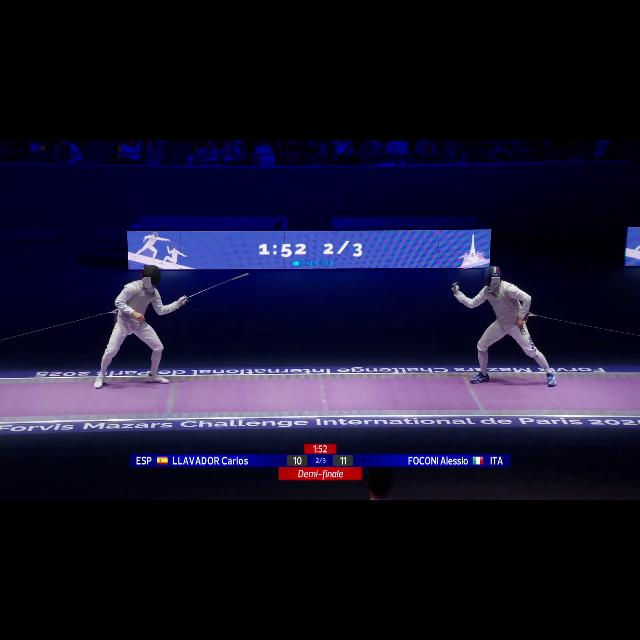blade: (174, 272, 252, 302), (428, 242, 459, 290)
